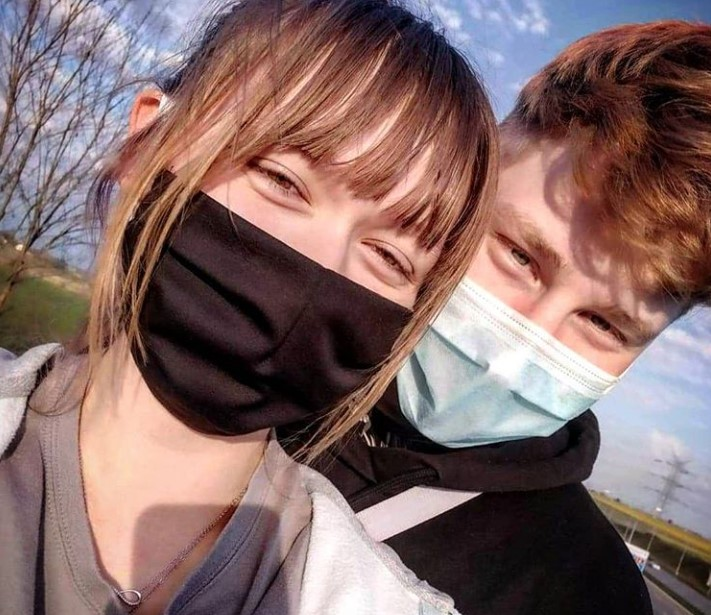face_with_mask: (115, 12, 487, 442), (402, 40, 708, 449)
